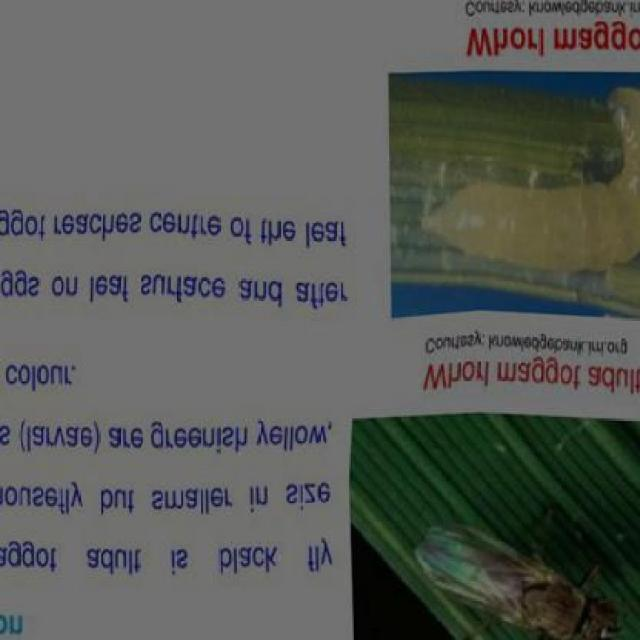whorl-maggot: (417, 82, 640, 270)
